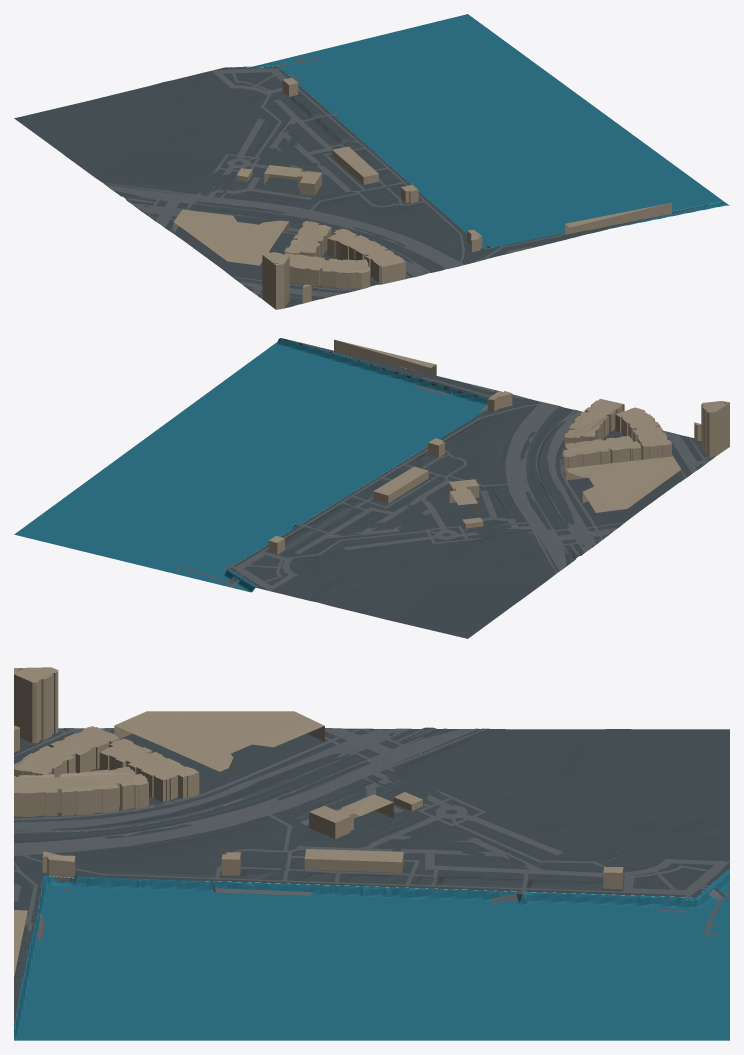
Rendered from epsg26910-1442-10889.lod0.glb.
The picture shows the model from 3 angles, top to bottom: view 1: azimuth 30°, elevation 25°; view 2: azimuth 150°, elevation 25°; view 3: azimuth 270°, elevation 25°; orthographic projection. The views are drawn at different scales.
Parts seen in each view (by area): view 1: epsg26910-1442-10889-lod0; view 2: epsg26910-1442-10889-lod0; view 3: epsg26910-1442-10889-lod0.
Part boxes in pixels (x1,y1,x2,y2): epsg26910-1442-10889-lod0: [14, 14, 729, 309]; epsg26910-1442-10889-lod0: [14, 338, 729, 638]; epsg26910-1442-10889-lod0: [14, 667, 729, 1040].
Size of the model in its own units: 384 by 41.9 by 384.
